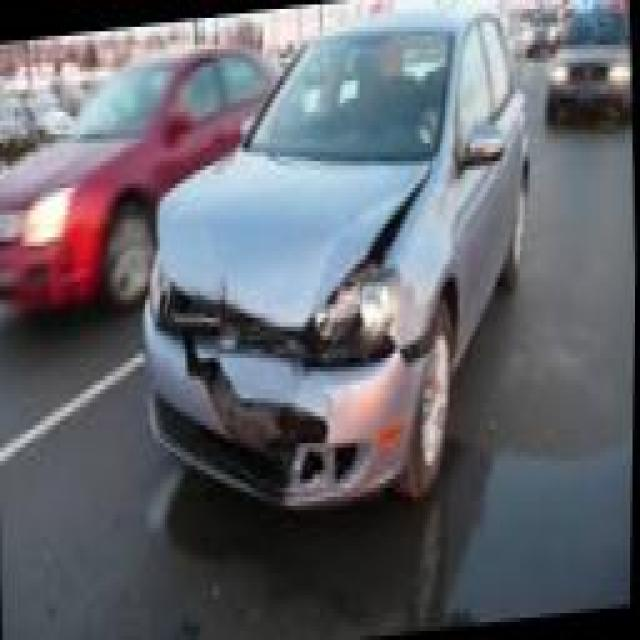Bonnet: (156, 138, 427, 316)
Bumper: (139, 299, 433, 506)
